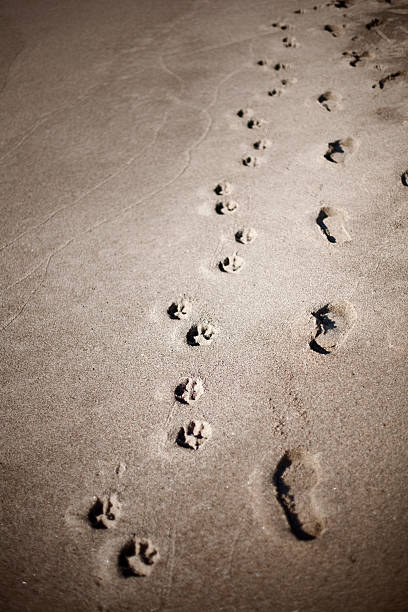animal_foot_print: (274, 448, 323, 539), (309, 301, 356, 354), (119, 535, 159, 576), (316, 206, 350, 243), (88, 492, 121, 529), (176, 420, 211, 449), (324, 137, 355, 163), (175, 377, 204, 404), (187, 321, 216, 345), (372, 70, 406, 88), (167, 297, 191, 319), (317, 90, 341, 111), (268, 77, 296, 95), (219, 252, 244, 272), (342, 51, 374, 66), (215, 198, 237, 214), (235, 227, 256, 243), (214, 180, 231, 195), (324, 24, 345, 36), (365, 17, 382, 30), (242, 155, 259, 166), (253, 139, 270, 150), (236, 108, 253, 118), (247, 118, 263, 128), (282, 37, 298, 47), (271, 22, 291, 30), (280, 77, 296, 86), (268, 88, 283, 96), (273, 62, 288, 70), (401, 169, 407, 186), (257, 58, 269, 65)
